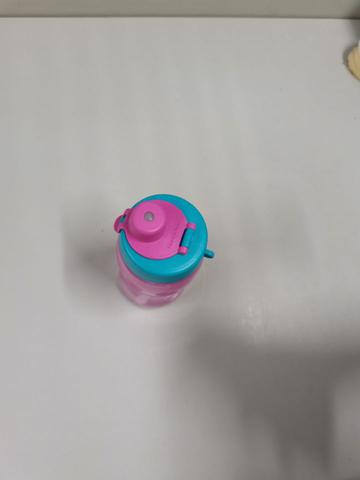cup: (108, 194, 213, 309)
